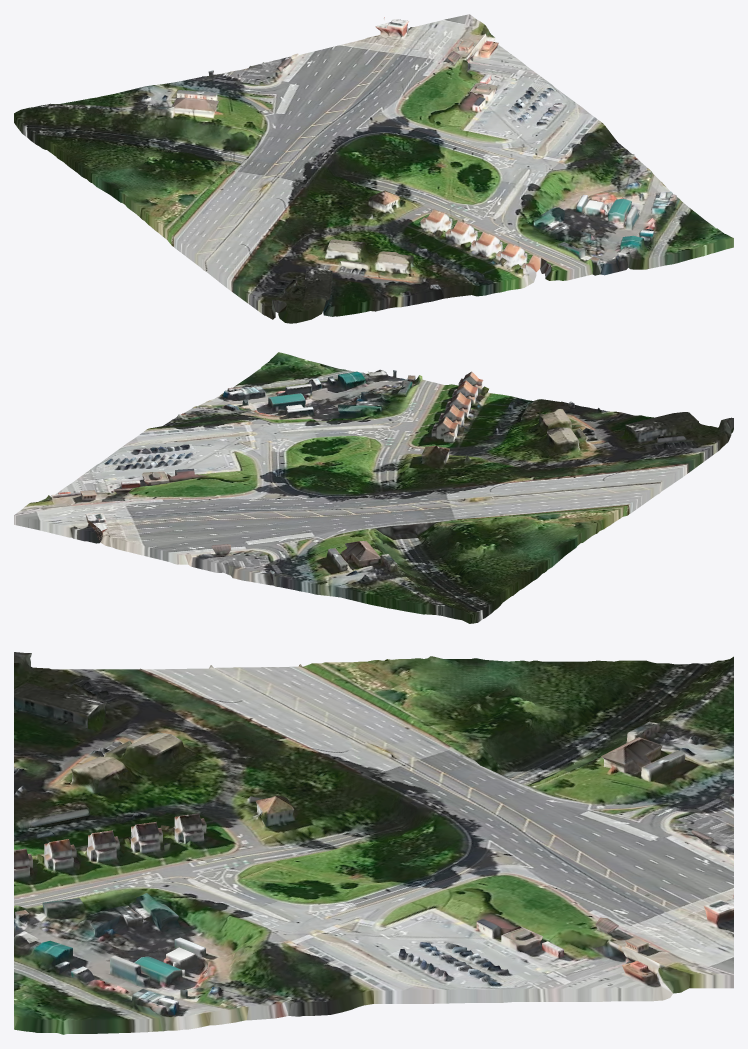
Rendered from z17-20944-50647-h0-yup-uvflip-v3-world.glb.
3 views of the same model, one above another, from view 1: azimuth 30°, elevation 25°; view 2: azimuth 150°, elevation 25°; view 3: azimuth 270°, elevation 25° (orthographic). The views are drawn at different scales.
Bounding box in the file's own units: 241 × 31.68 × 243.
1 material, 1 textured.
